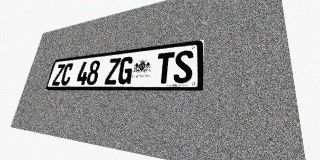4: (75, 61, 91, 85)
8: (85, 60, 101, 85)
C: (60, 63, 74, 85)
G: (117, 56, 134, 84)
S: (173, 50, 193, 83)
T: (155, 52, 175, 84)
Z: (104, 58, 121, 85), (51, 64, 65, 85)
